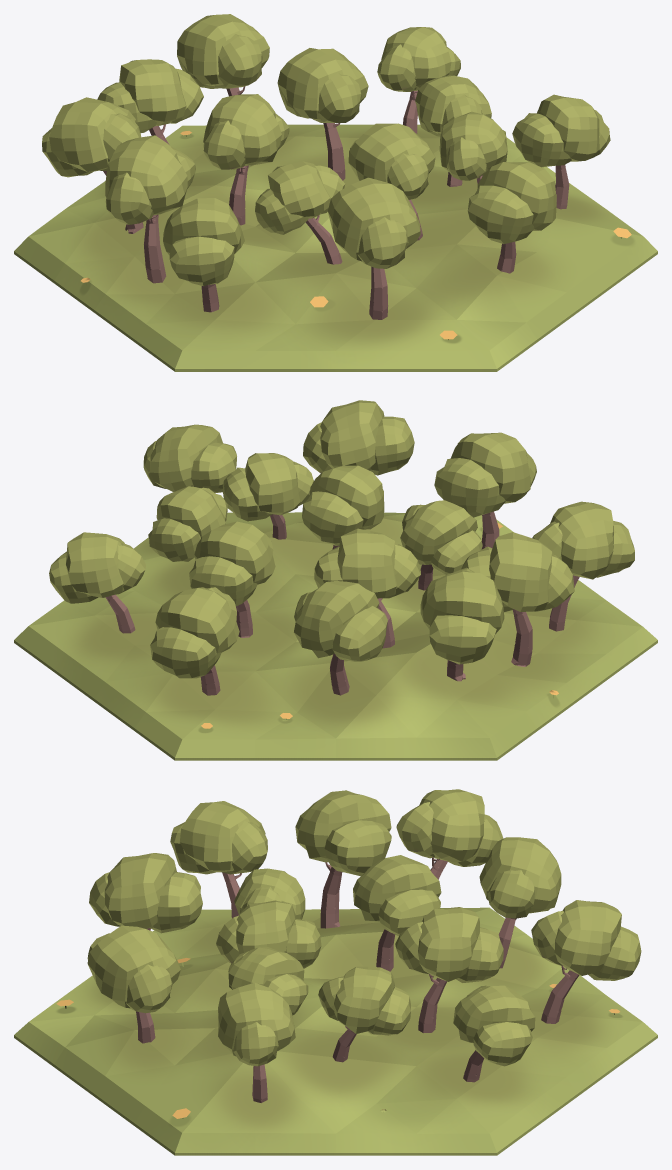
Rendered from deciduousforest.glb.
3 views of the same model, one above another, from view 1: azimuth 30°, elevation 25°; view 2: azimuth 150°, elevation 25°; view 3: azimuth 270°, elevation 25° (orthographic).
Parts seen in each view (by area): view 1: big_details, land, small_details; view 2: big_details, land; view 3: big_details, land.
Part boxes in pixels (left/top/right/bottom): big_details: left=42, top=14, right=610, bottom=319; land: left=14, top=124, right=657, bottom=371; small_details: left=81, top=131, right=631, bottom=339; big_details: left=49, top=400, right=634, bottom=695; land: left=14, top=512, right=657, bottom=760; big_details: left=87, top=789, right=641, bottom=1102; land: left=14, top=907, right=657, bottom=1155.
Bounding box in the file's own units: 1.73 × 0.5312 × 2.
Materials: 3 (3 with a texture image).
